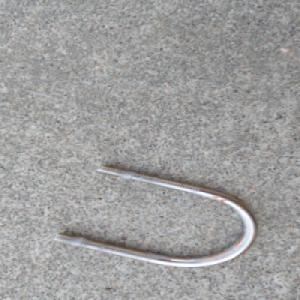ClampPart: (51, 162, 262, 268)
